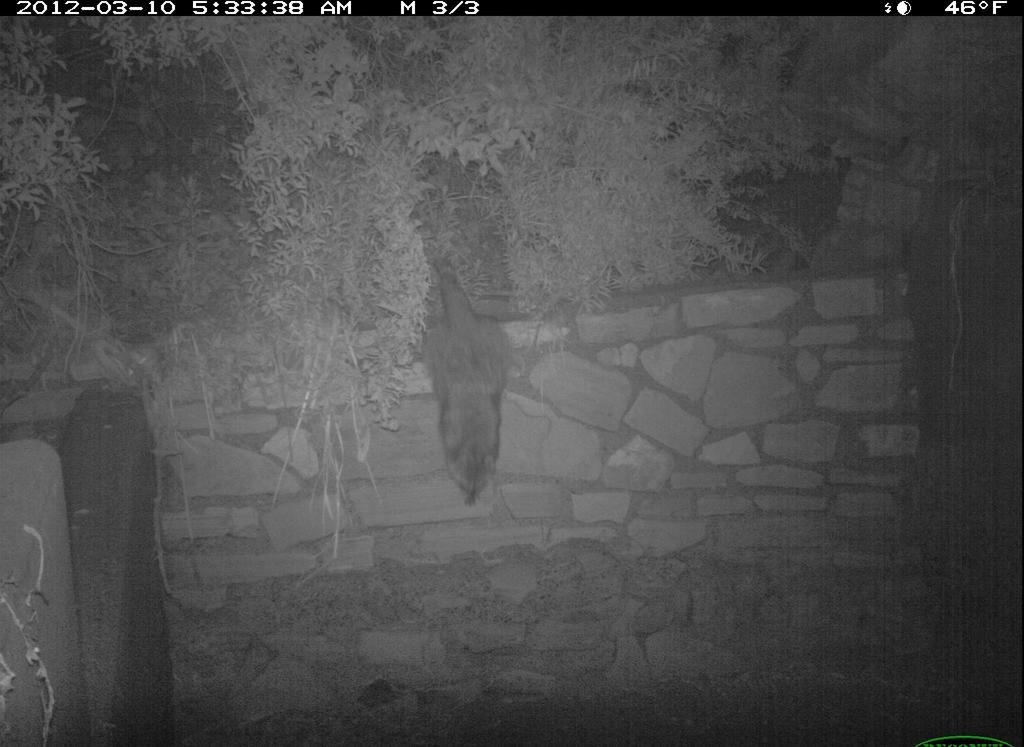raccoon: (417, 253, 546, 518)
